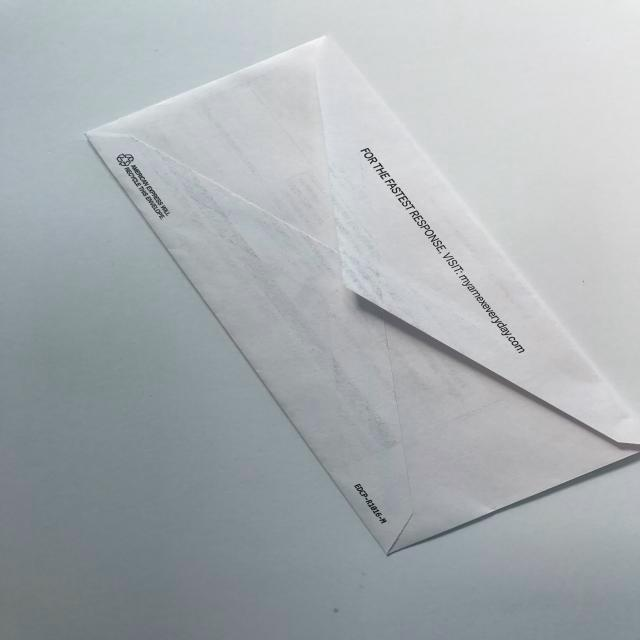paper: (68, 27, 640, 557)
